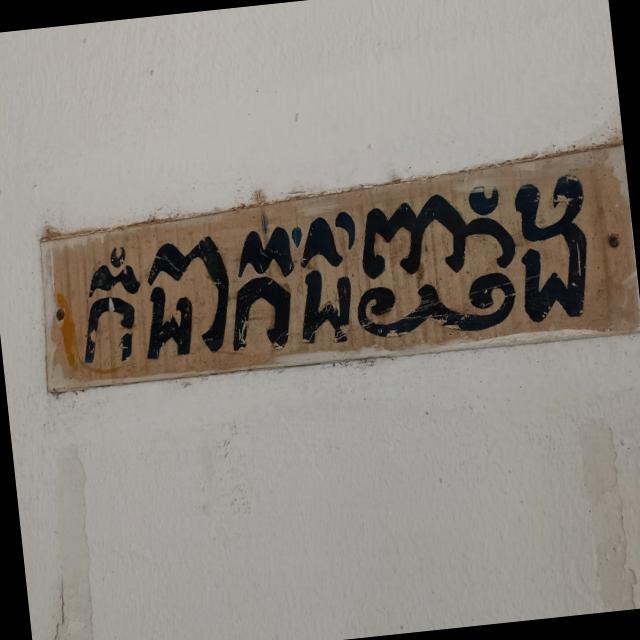Yolov11_80vkh: (70, 148, 610, 378)
